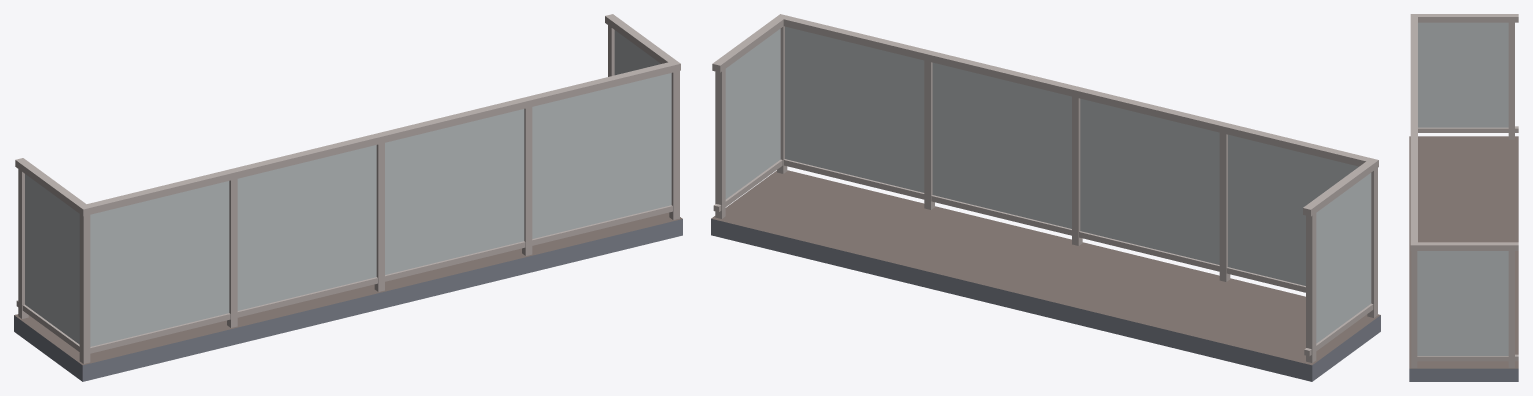
The model's file is SM_Fixture_BalconyFull_AluPanel_455_01.gltf.
3 renders of one model, left to right at view 1: azimuth 30°, elevation 25°; view 2: azimuth 150°, elevation 25°; view 3: azimuth 270°, elevation 25°, orthographic. The views are drawn at different scales.
Visible parts, largest first — view 1: SM_Fixture_BalconyFull_AluPanel_455_01; view 2: SM_Fixture_BalconyFull_AluPanel_455_01; view 3: SM_Fixture_BalconyFull_AluPanel_455_01.
Part boxes in pixels (left/top/right/bottom): SM_Fixture_BalconyFull_AluPanel_455_01: left=14, top=14, right=682, bottom=381; SM_Fixture_BalconyFull_AluPanel_455_01: left=711, top=14, right=1380, bottom=381; SM_Fixture_BalconyFull_AluPanel_455_01: left=1409, top=14, right=1518, bottom=381.
Bounding box in the file's own units: 4.54 × 1.24 × 0.9.
Materials: 1 (1 with a texture image).
